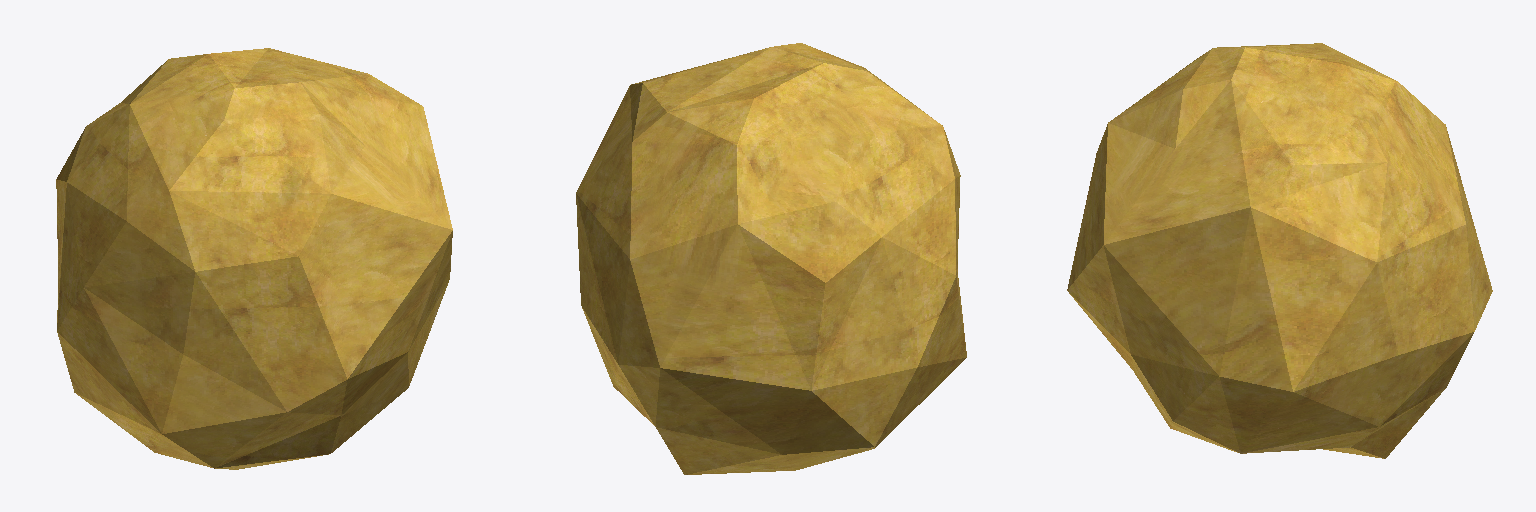
3 renders of one model, left to right at view 1: azimuth 30°, elevation 25°; view 2: azimuth 150°, elevation 25°; view 3: azimuth 270°, elevation 25°, orthographic.
Parts seen in each view (by area): view 1: 球; view 2: 球; view 3: 球.
Boxes of the visible parts, box(x1,y1,x2,y2) form: 球: box(56, 48, 452, 469); 球: box(576, 43, 966, 474); 球: box(1067, 43, 1492, 458).
Bounding box in the file's own units: 2.14 × 2.15 × 2.19.
Materials: 1 (1 with a texture image).